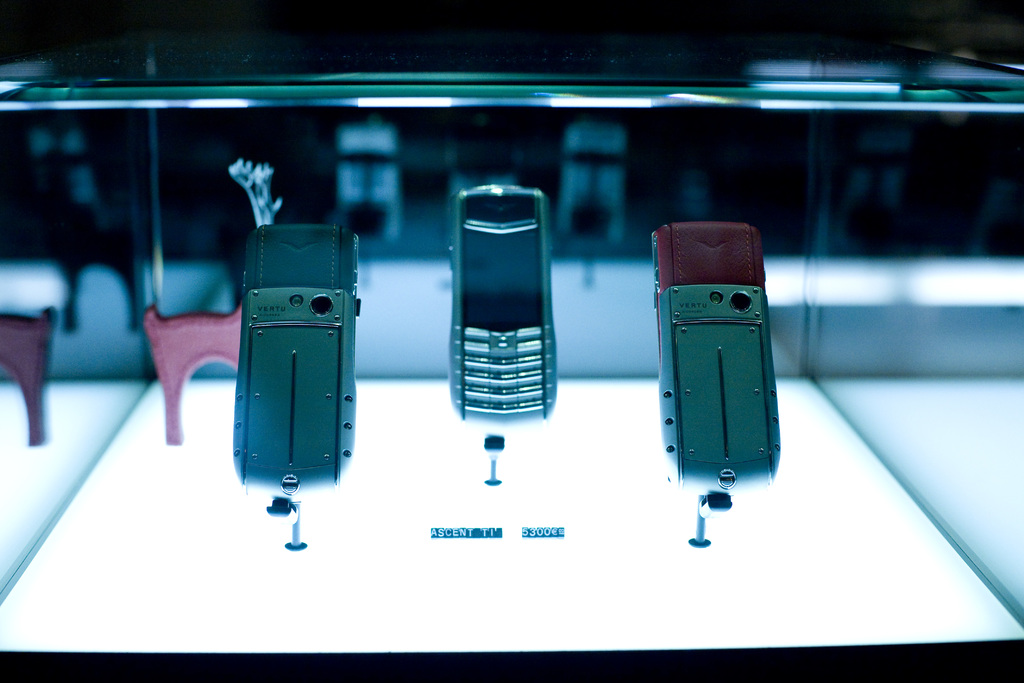Mobile-phone: (237, 220, 362, 502), (650, 222, 780, 491), (448, 181, 556, 431)
